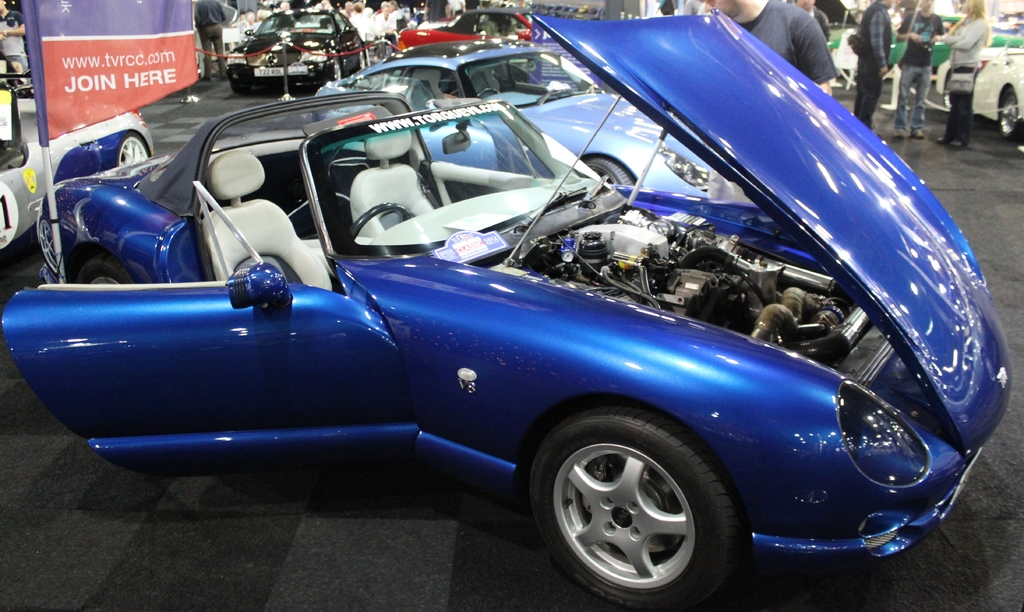person: (701, 0, 838, 95)
